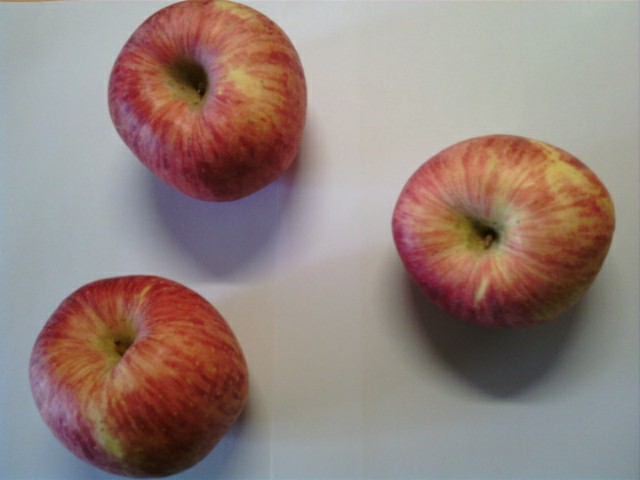normal_apple: (390, 133, 619, 333), (29, 272, 248, 478), (105, 2, 309, 205)
